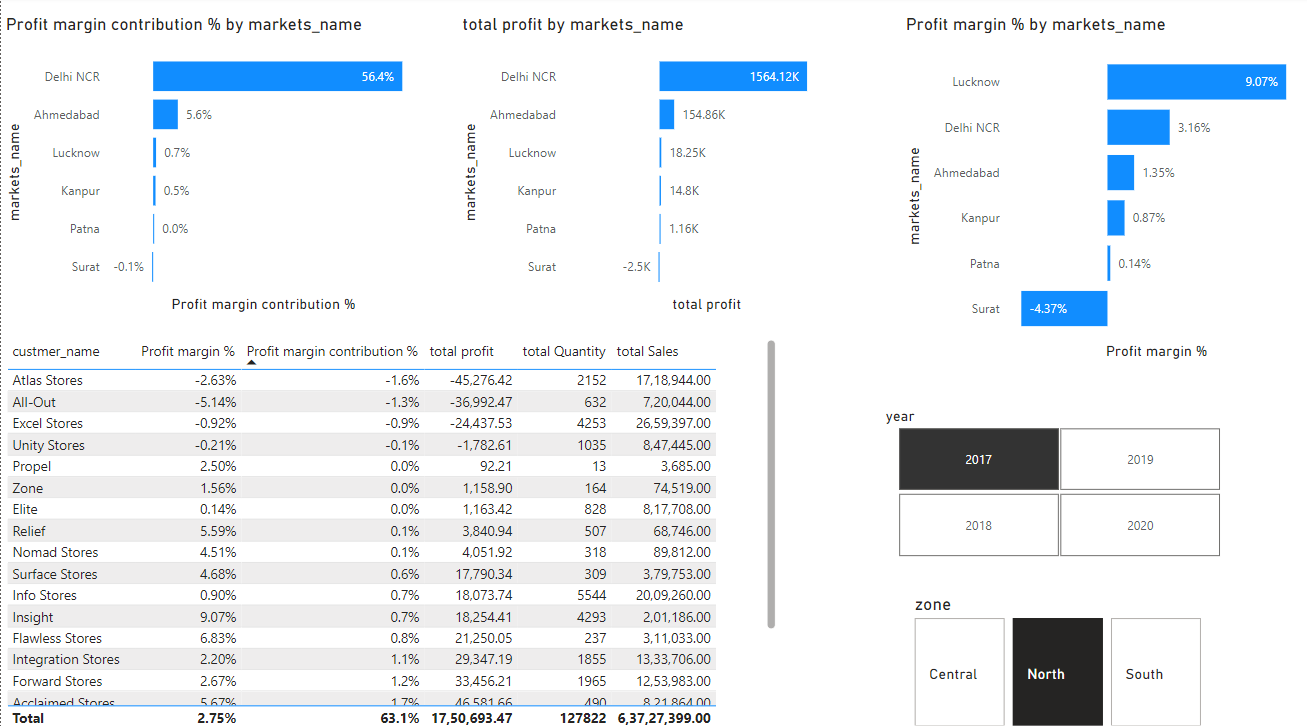

The dashboard page shown, as its layout file describes it:
{"tool":"powerbi","page":{"name":"Profit Analysis","canvas":[1280,720],"ordinal":1},"visuals":[{"type":"barChart","fields":{"Category":["sales markets.markets_name"],"Y":["BaseTable.Profit margin %"]},"box":[880,0,400,360],"z":3000},{"type":"slicer","fields":{"Values":["sales date.year"]},"box":[851.4,397.1,364.3,157.1],"z":5000},{"type":"barChart","fields":{"Category":["sales markets.markets_name"],"Y":["BaseTable.total profit"]},"box":[445.7,0,388.6,314.3],"z":5001},{"type":"barChart","fields":{"Category":["sales markets.markets_name"],"Y":["BaseTable.Profit margin contribution %"]},"box":[0,0,412.9,314.3],"z":5004},{"type":"tableEx","fields":{"Values":["sales customers.custmer_name","BaseTable.Profit margin %","BaseTable.Profit margin contribution %","BaseTable.total profit","BaseTable.total Quantity","BaseTable.total Sales"]},"box":[0,331.4,762.9,388.6],"z":5005},{"type":"advancedSlicerVisual","fields":{"Values":["sales markets.zone"]},"box":[888.6,584.3,291.4,135.7],"z":5006}]}

Visuals, with their boxes in screenshot pixels (x1, y1, x2, y2), scaled from the page's 1280x720 canvas onto the 1307x727 screenshot:
barChart - sales markets.markets_name x BaseTable.Profit margin %: [899, 0, 1306, 364]
slicer - sales date.year: [869, 401, 1241, 560]
barChart - sales markets.markets_name x BaseTable.total profit: [455, 0, 852, 317]
barChart - sales markets.markets_name x BaseTable.Profit margin contribution %: [0, 0, 422, 317]
tableEx - sales customers.custmer_name x BaseTable.Profit margin %: [0, 335, 779, 726]
advancedSlicerVisual - sales markets.zone: [907, 590, 1205, 726]
